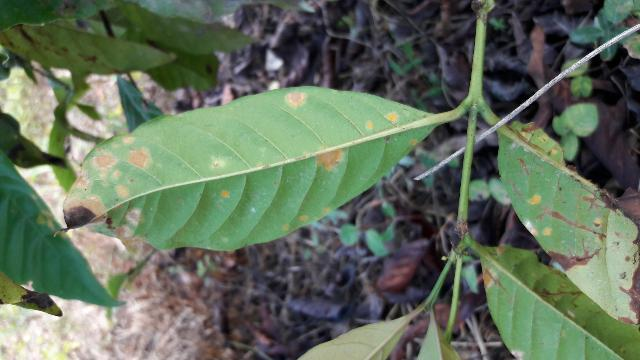rust_level_3: (58, 89, 428, 256)
